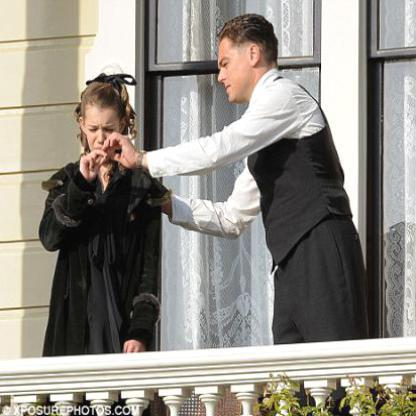person: (207, 18, 377, 343), (39, 70, 157, 359)
